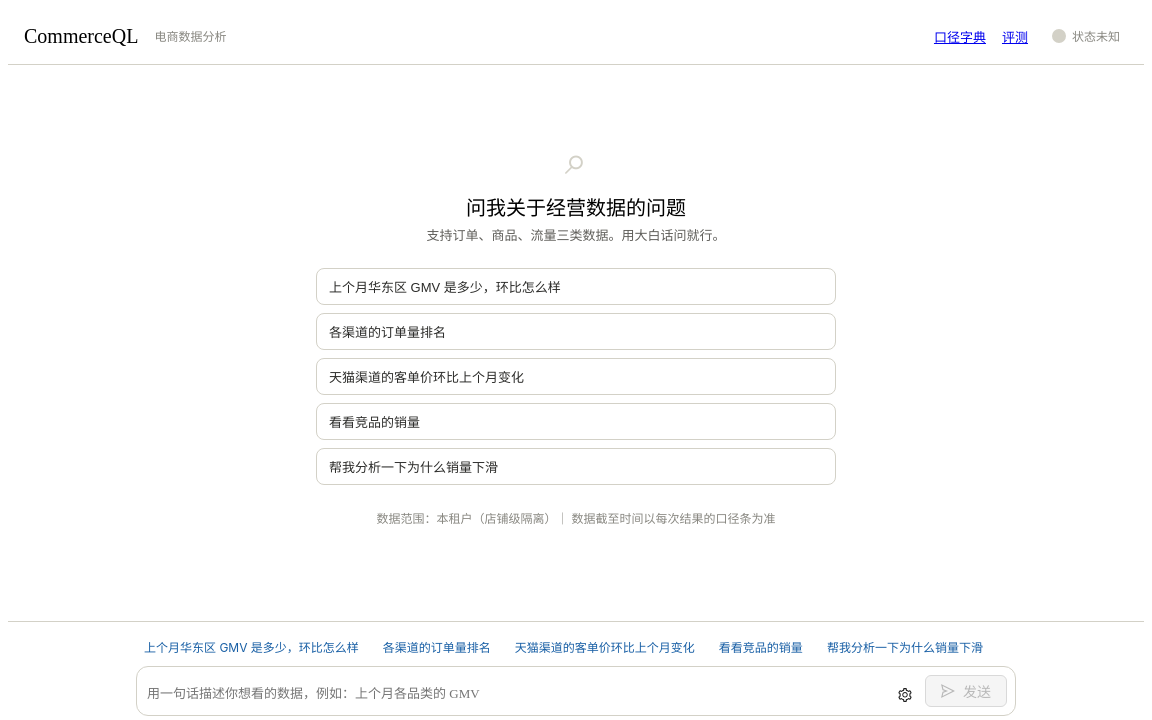
U-136 判据②：会话创建支的 401 必须传到错误卡 › 过期令牌 ⇒ 编号 = AUTH_FAILED（非空）且文案指向重新登录
The image size is (1152, 720).
Step 1. Type "上个月复购率最高的 10 个店铺是哪些？" into the text box named "提问输入框" → (515, 694), box top-left (145, 681), bottom-right (885, 707)
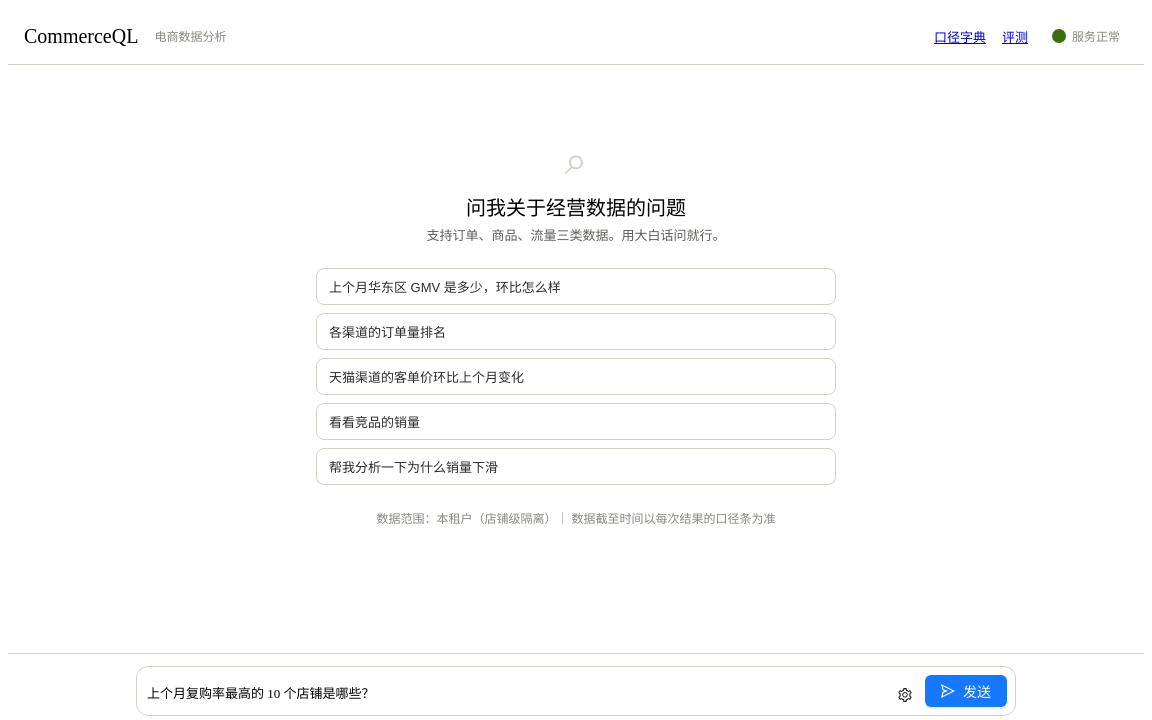
Step 2. Click the button with aria-label "发送问题" → (966, 691), box top-left (925, 675), bottom-right (1007, 707)
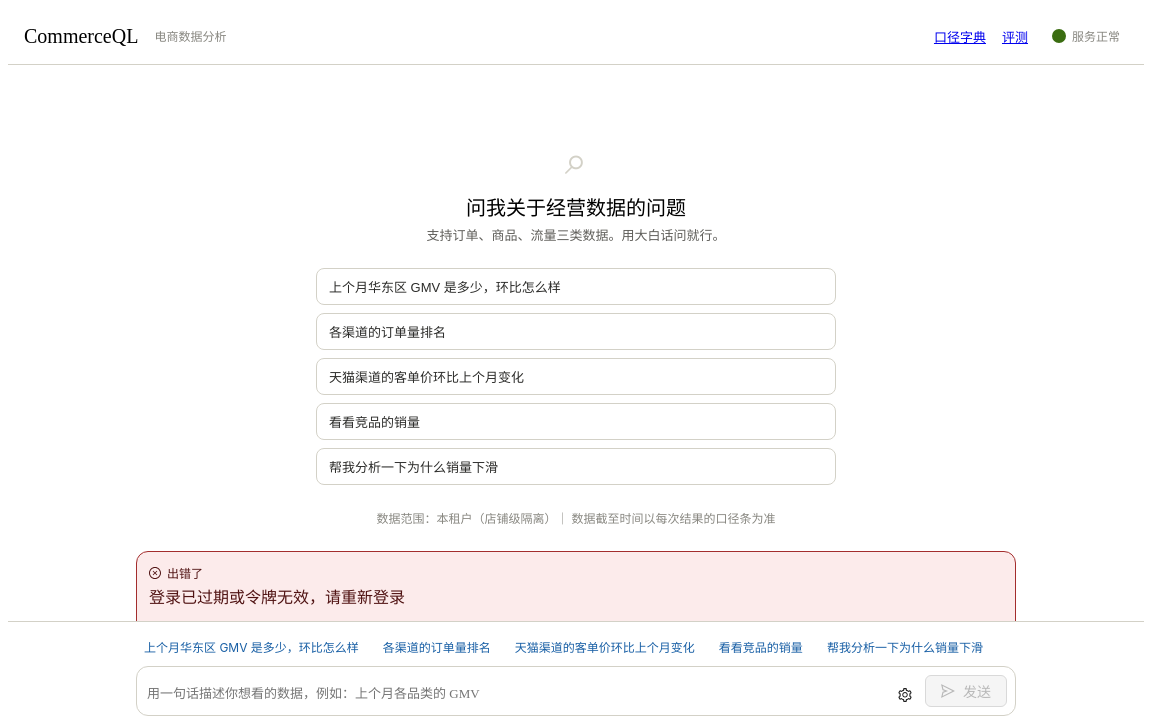
Now the text "登录已过期或令牌无效，请重新登录" is shown, box top-left (149, 589), bottom-right (405, 606)
